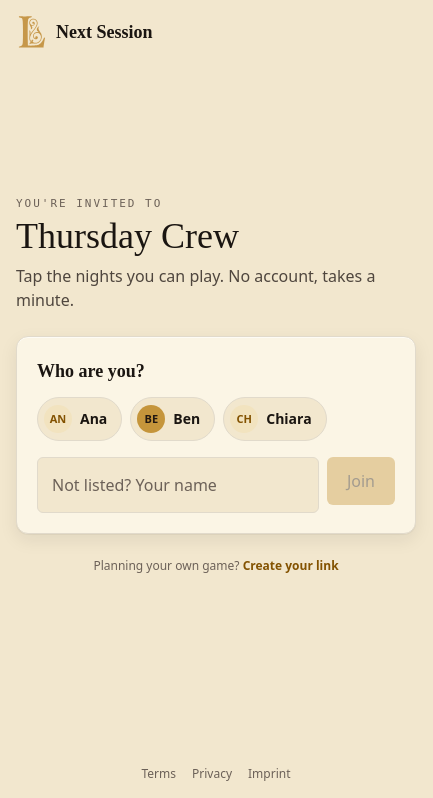
Test: Join › explains a {"code":"ROSTER_FULL"} refusal
This screenshot has width=433, height=798.
Type "Dev" into the field labelled "Not listed? Your name". click: (178, 485)
box: [37,457,319,513]
Then press Enter
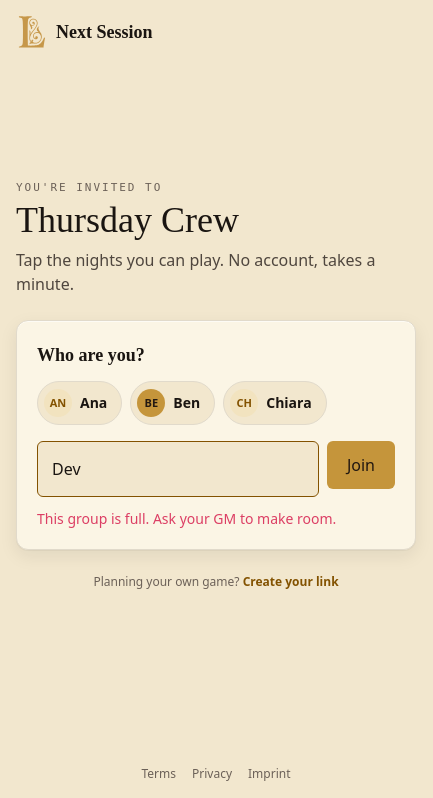
Check: the text "This group is full. Ask your GM to make room." is shown, box [37,509,336,528]
Check: the button "Join" is enabled, box [327,441,395,489]
